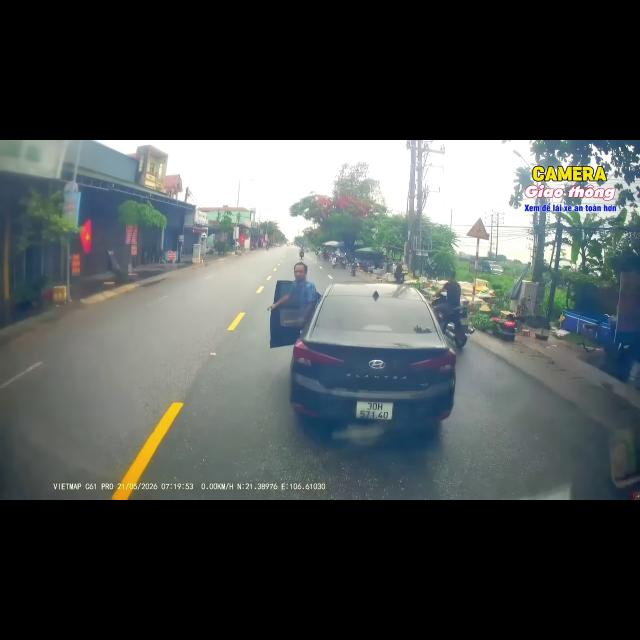car: (270, 282, 455, 427)
motorcycle: (431, 292, 474, 348), (340, 260, 346, 268), (351, 267, 356, 276), (332, 260, 337, 267), (299, 252, 303, 259)
